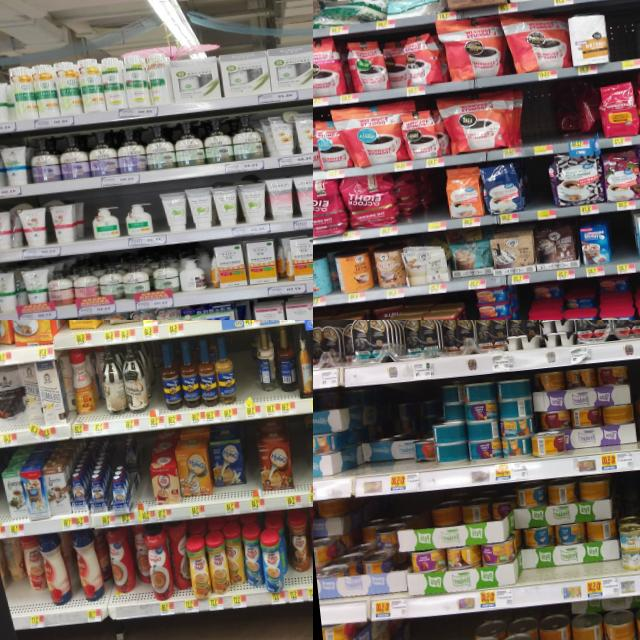100% O.O.S: (234, 364, 262, 419), (294, 430, 313, 507), (387, 621, 464, 640), (134, 462, 154, 524), (244, 447, 262, 512), (146, 379, 164, 428), (0, 487, 9, 540)
100- O.O.S: (524, 86, 558, 155), (606, 11, 640, 71), (524, 157, 554, 221), (607, 212, 636, 274), (422, 168, 448, 232)
